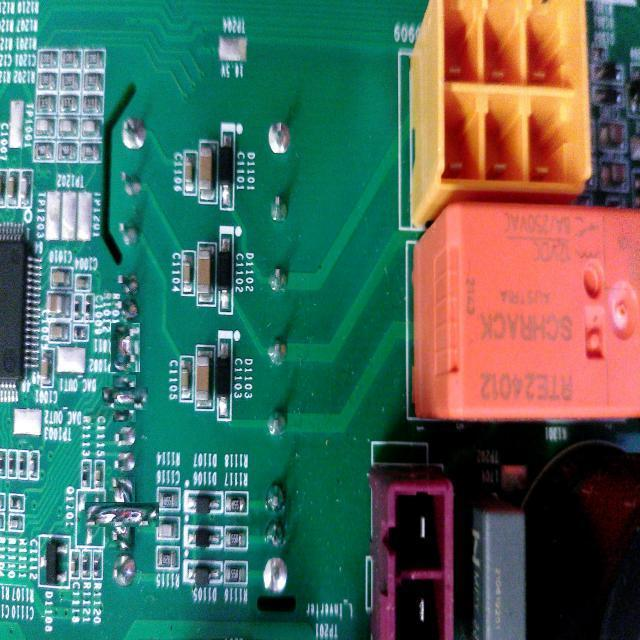Short_circuit: (98, 489, 148, 539), (110, 322, 140, 372), (107, 381, 142, 416)
